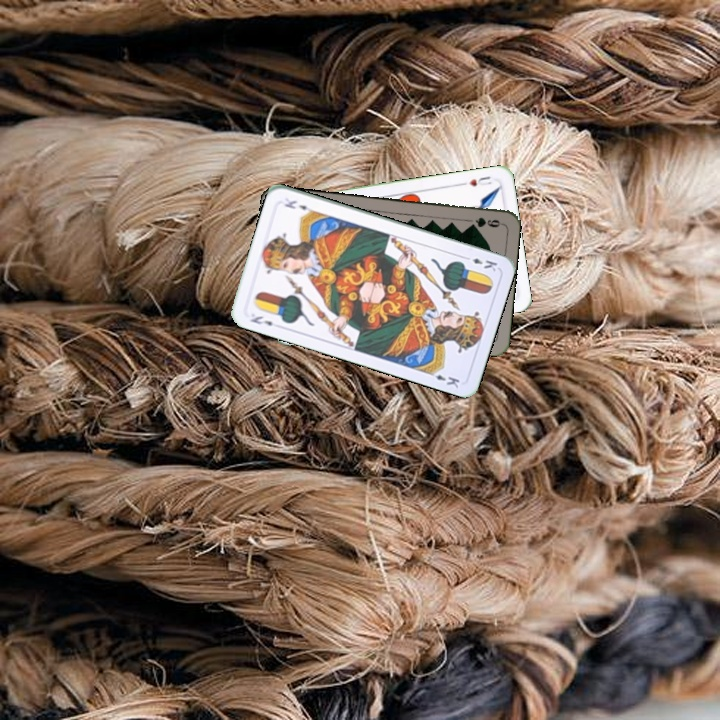EK: (460, 252, 500, 274), (246, 312, 275, 328)
G9: (464, 213, 504, 230)
HU: (457, 172, 494, 189)
